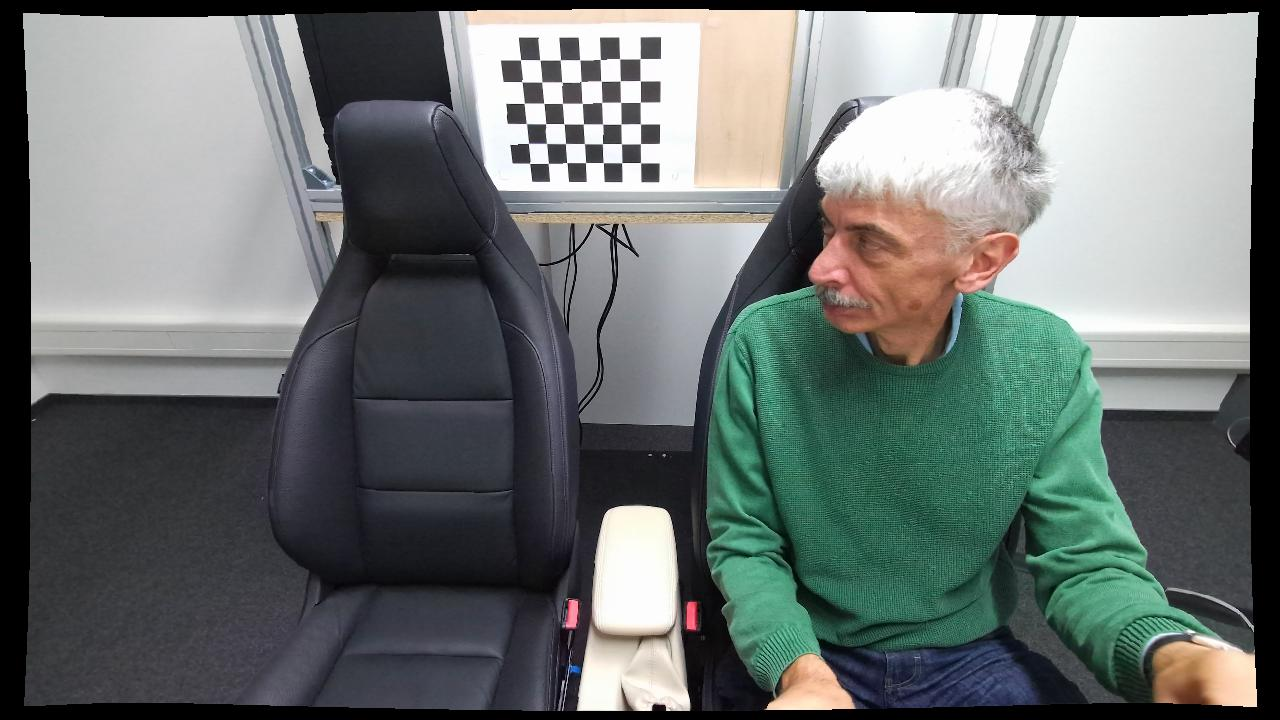Distracted: (707, 75, 1117, 720)
